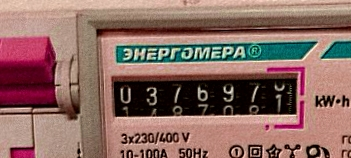0: (117, 83, 134, 104)
1: (274, 92, 285, 113)
3: (144, 84, 159, 107)
6: (196, 80, 210, 102)
7: (170, 80, 184, 104), (247, 80, 261, 103)
9: (221, 81, 235, 103)
screen: (105, 63, 310, 137)
